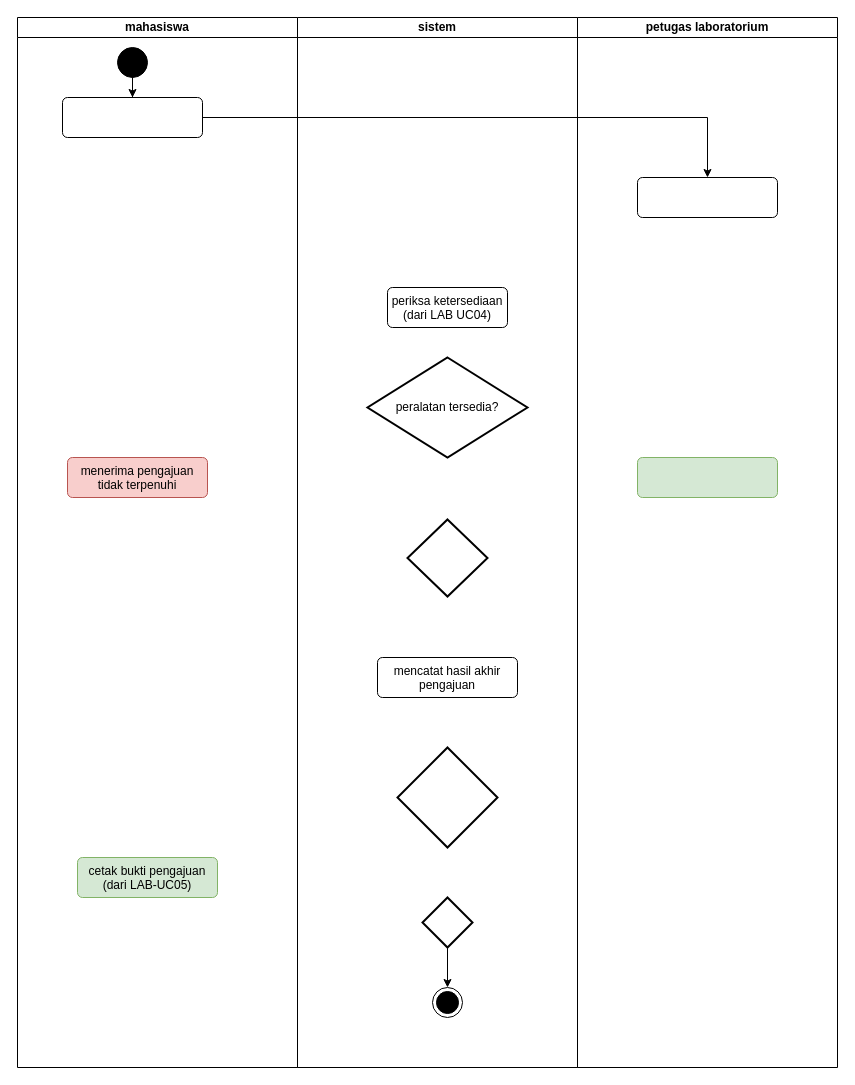
Image size: 855x1085. Some labels were removed from this diagram. The shapes that lost their labels are listed below. From the top down, each one's centre as x and y in pixels, then its label:
the point at 132,117: menyerahkan peralatan yang di pinjam
the point at 707,197: catatn pengembalian peralatan (LAB-UC11)
the point at 707,477: memproses keputusan peminjaman
the point at 447,797: mahasiswa memilih cetak bukti
